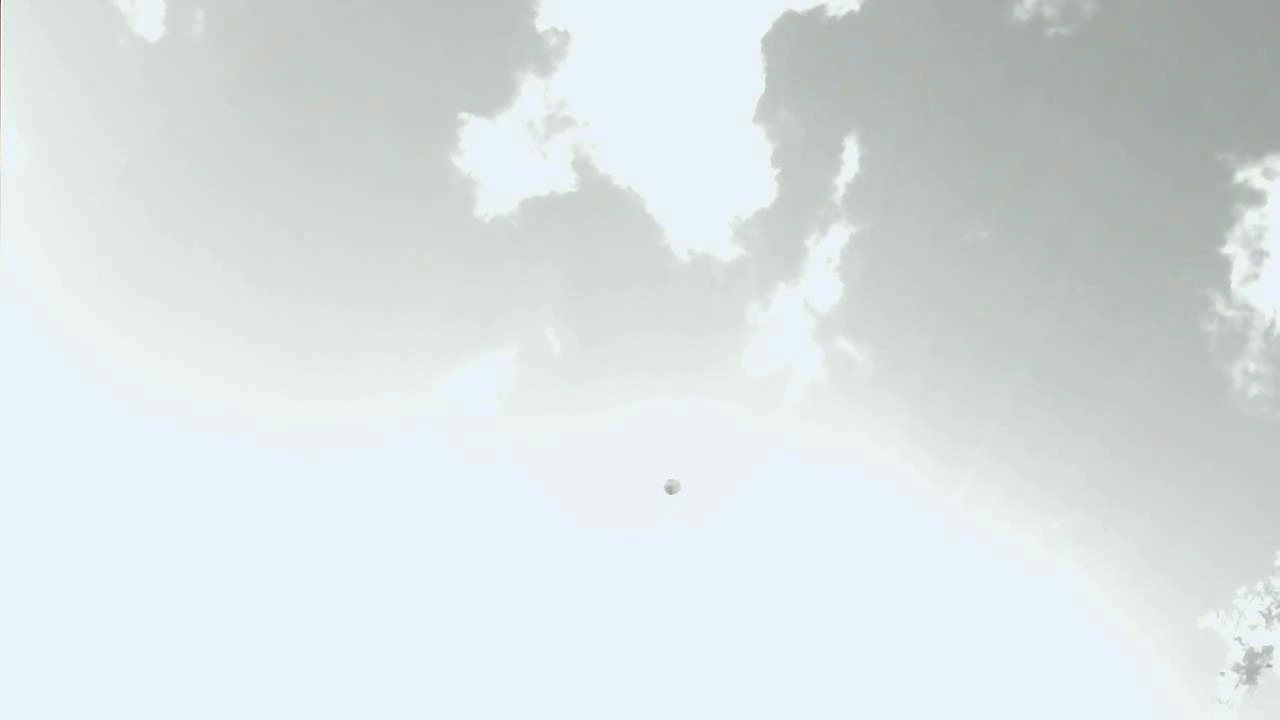Football-Spotter: (663, 479, 680, 494)
